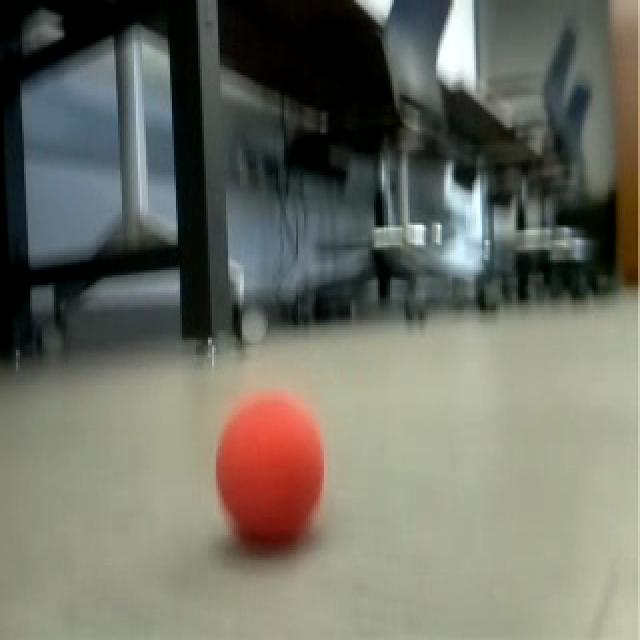ping-pong-ball: (210, 388, 332, 555)
